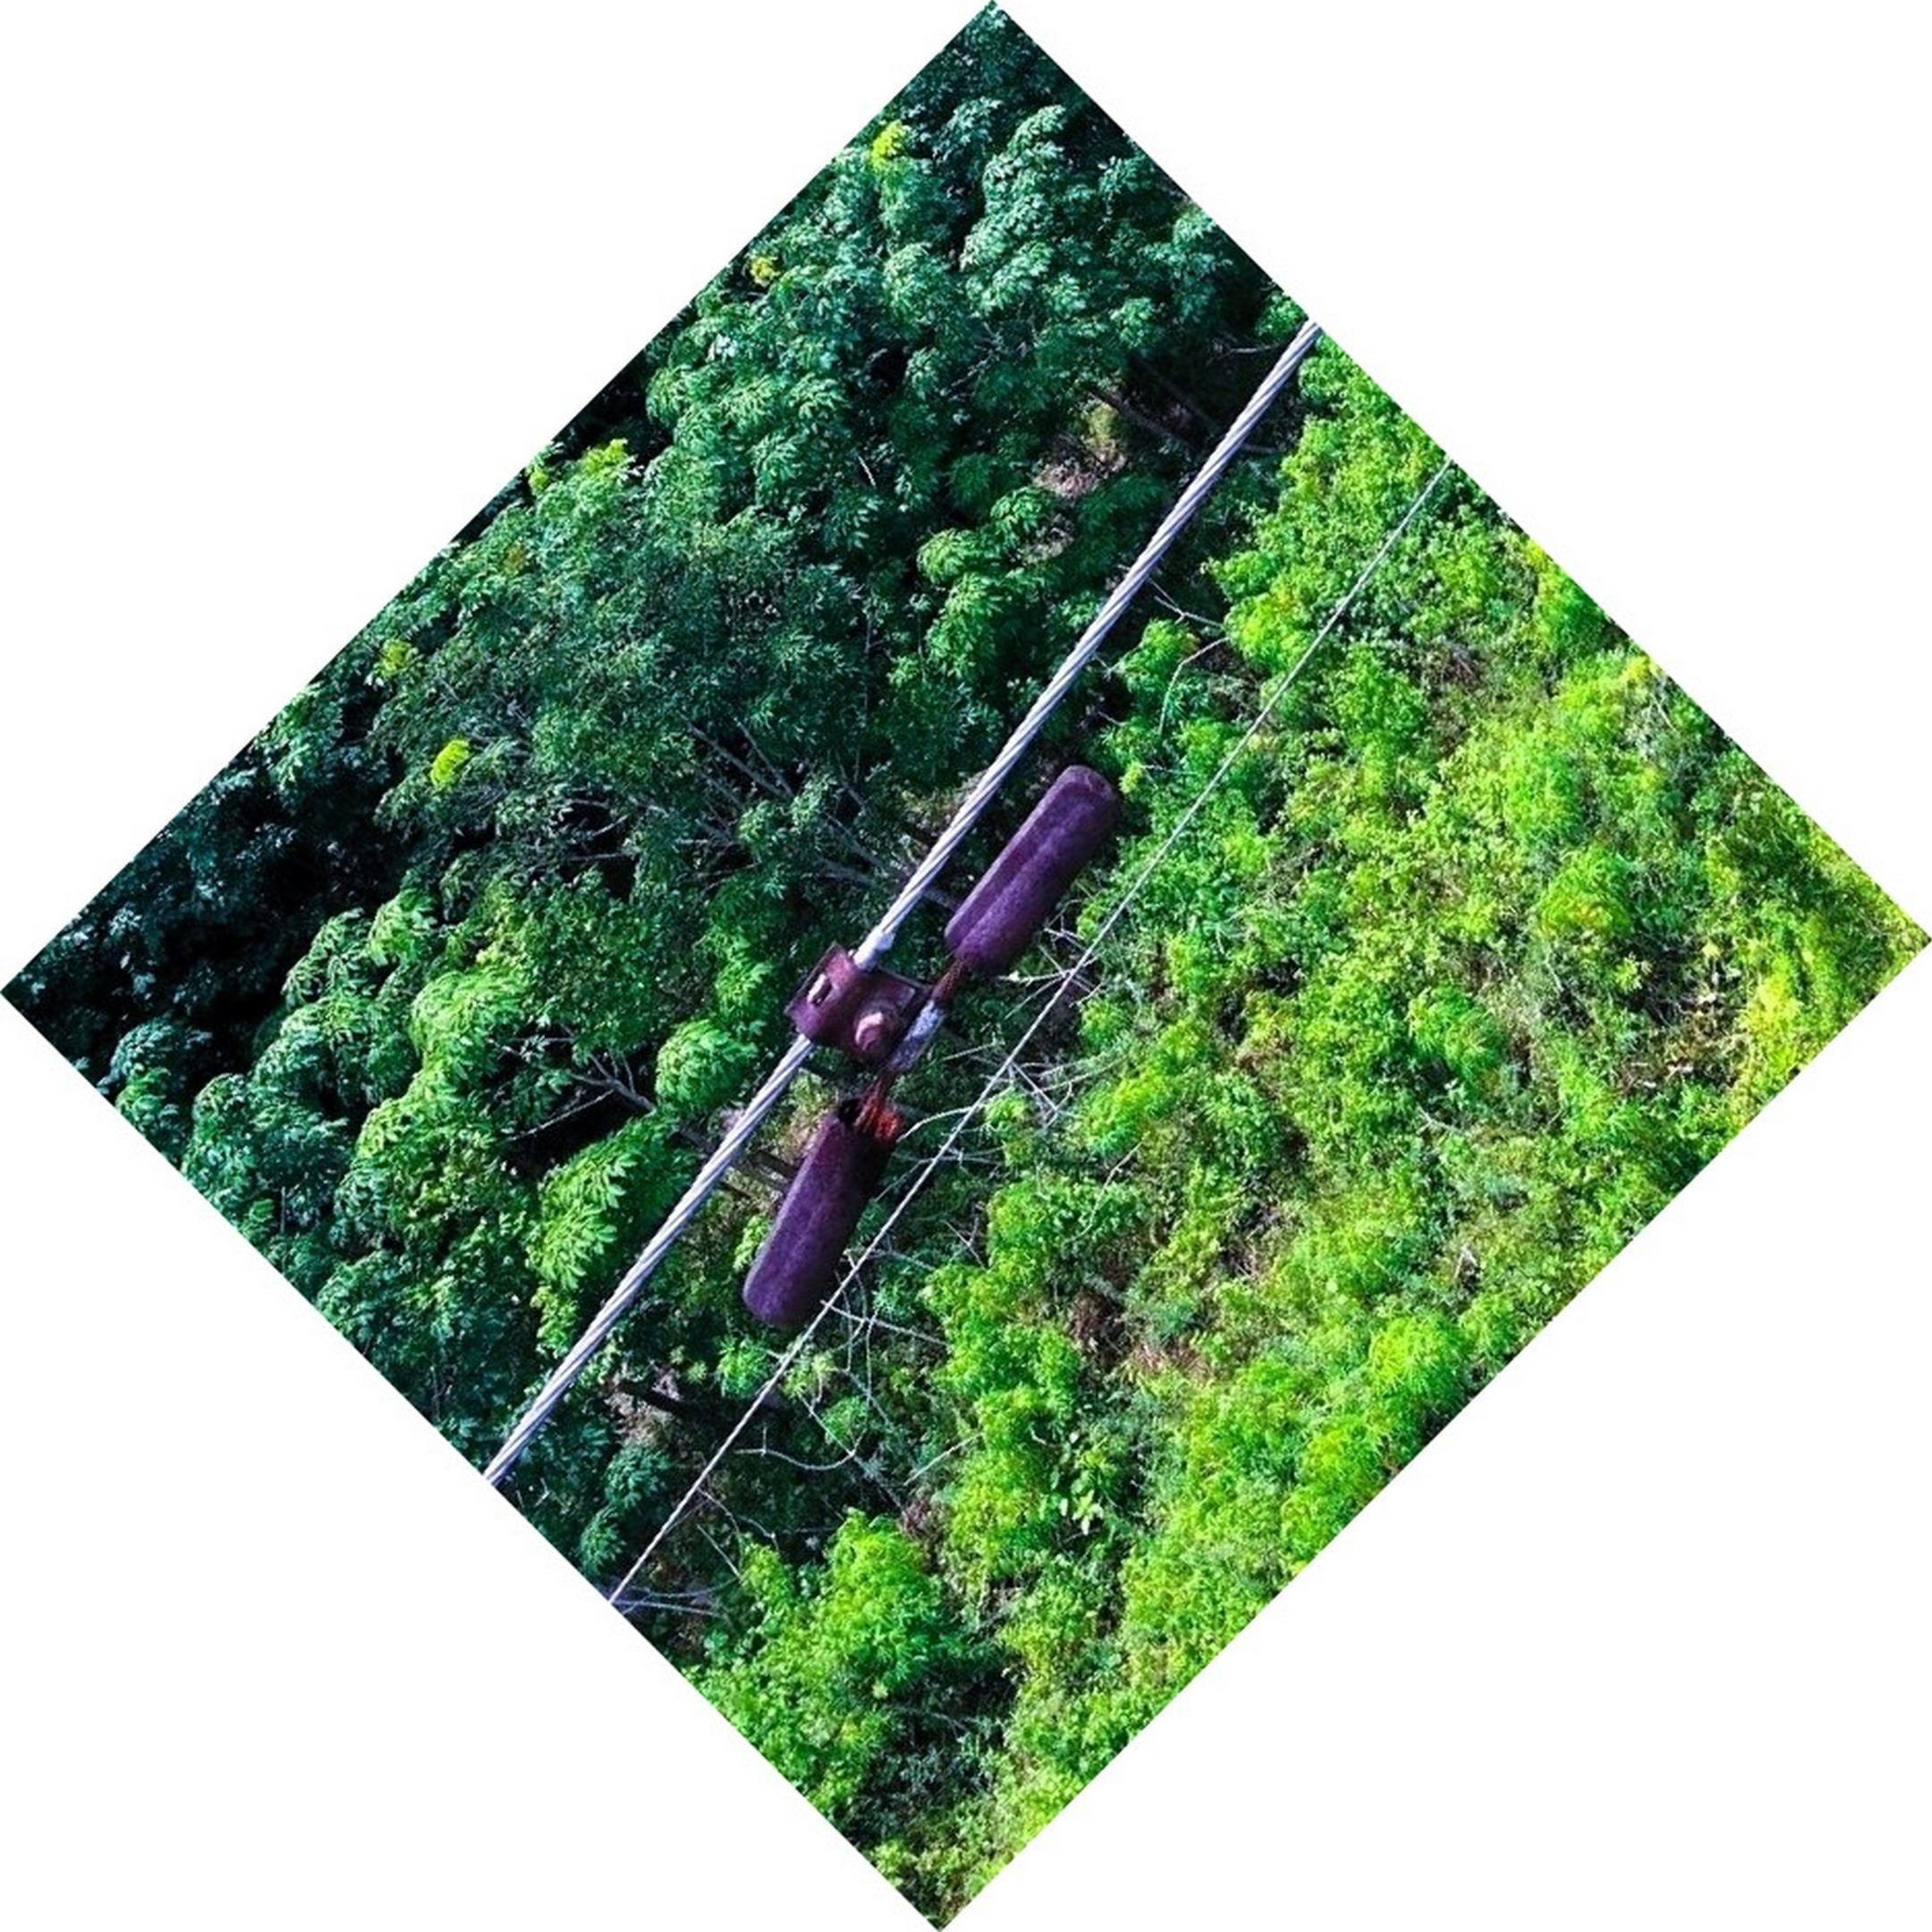Shockproof hammer: (681, 732, 1146, 1357)
